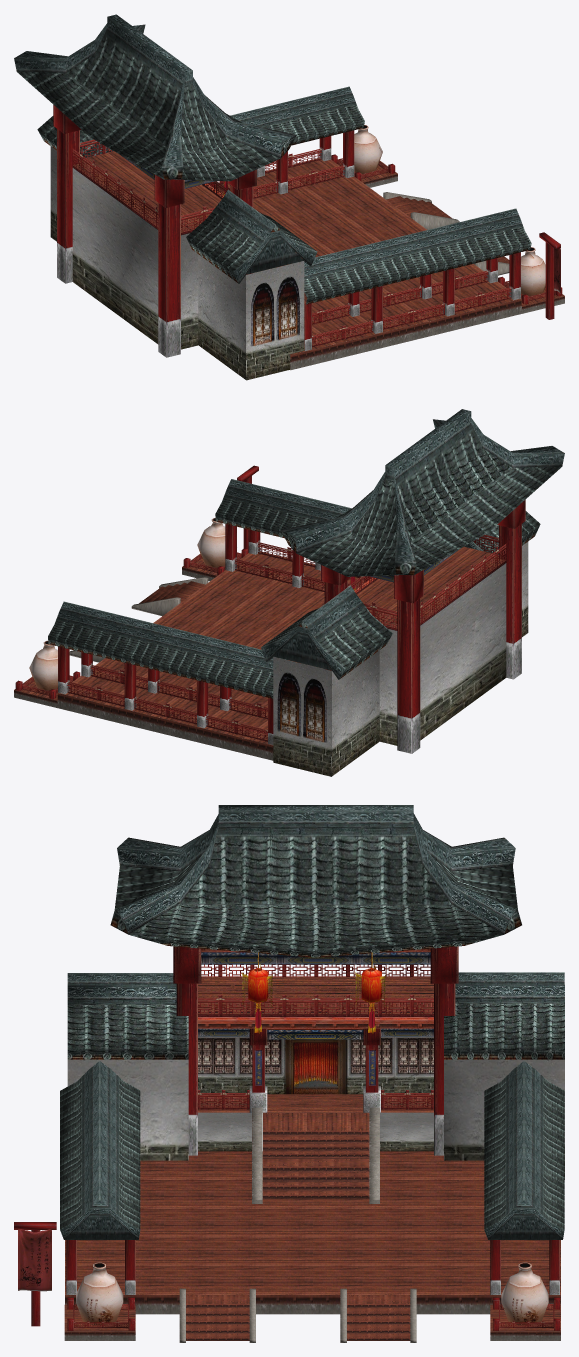
Rendered from cj_resta03.glb.
3 views of the same model, one above another, from view 1: azimuth 30°, elevation 25°; view 2: azimuth 150°, elevation 25°; view 3: azimuth 270°, elevation 25° (orthographic). The views are drawn at different scales.
Parts seen in each view (by area): view 1: CJ_resta03_roof, CJ_resta03_wall01, CJ_resta03_floor, CJ_resta03_gidung, CJ_resta03_fence, CJ_resta03_sidewal, CJ_resta03_liquor, CJ_resta03_sign, CJ_resta03_stair; view 2: CJ_resta03_roof, CJ_resta03_wall01, CJ_resta03_floor, CJ_resta03_gidung, CJ_resta03_fence, CJ_resta03_sidewal, CJ_resta03_liquor, CJ_resta03_stair; view 3: CJ_resta03_roof, CJ_resta03_floor, CJ_resta03_wall01, CJ_resta03_gidung, CJ_resta03_stair, CJ_resta03_sidewal, CJ_resta03_fence, CJ_resta03_liquor, CJ_resta03_sign, CJ_resta03_light02.
Boxes of the visible parts, box(x1,y1,x2,y2) form: CJ_resta03_roof: box(14, 14, 531, 304); CJ_resta03_wall01: box(50, 146, 304, 380); CJ_resta03_floor: box(73, 151, 564, 354); CJ_resta03_gidung: box(53, 105, 562, 357); CJ_resta03_fence: box(72, 139, 555, 346); CJ_resta03_sidewal: box(254, 173, 564, 370); CJ_resta03_liquor: box(354, 125, 545, 296); CJ_resta03_sign: box(539, 232, 560, 319); CJ_resta03_stair: box(276, 196, 509, 267); CJ_resta03_roof: box(48, 409, 564, 698); CJ_resta03_wall01: box(273, 541, 528, 776); CJ_resta03_floor: box(14, 546, 504, 745); CJ_resta03_gidung: box(15, 500, 525, 753); CJ_resta03_fence: box(22, 534, 506, 741); CJ_resta03_sidewal: box(14, 567, 323, 760); CJ_resta03_liquor: box(29, 517, 225, 690); CJ_resta03_stair: box(139, 581, 204, 603); CJ_resta03_roof: box(60, 805, 564, 1239); CJ_resta03_floor: box(64, 977, 560, 1331); CJ_resta03_wall01: box(67, 1036, 564, 1179); CJ_resta03_gidung: box(66, 946, 560, 1330); CJ_resta03_stair: box(186, 1112, 410, 1340); CJ_resta03_sidewal: box(64, 1107, 560, 1342); CJ_resta03_fence: box(73, 964, 554, 1327); CJ_resta03_liquor: box(76, 1262, 548, 1325); CJ_resta03_sign: box(14, 1222, 56, 1326); CJ_resta03_light02: box(242, 952, 385, 1033).
Size of the model in its own units: 26.35 by 17.51 by 25.91.
10 materials, 10 textured.
